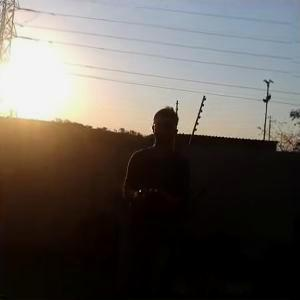follow: (116, 103, 191, 298)
